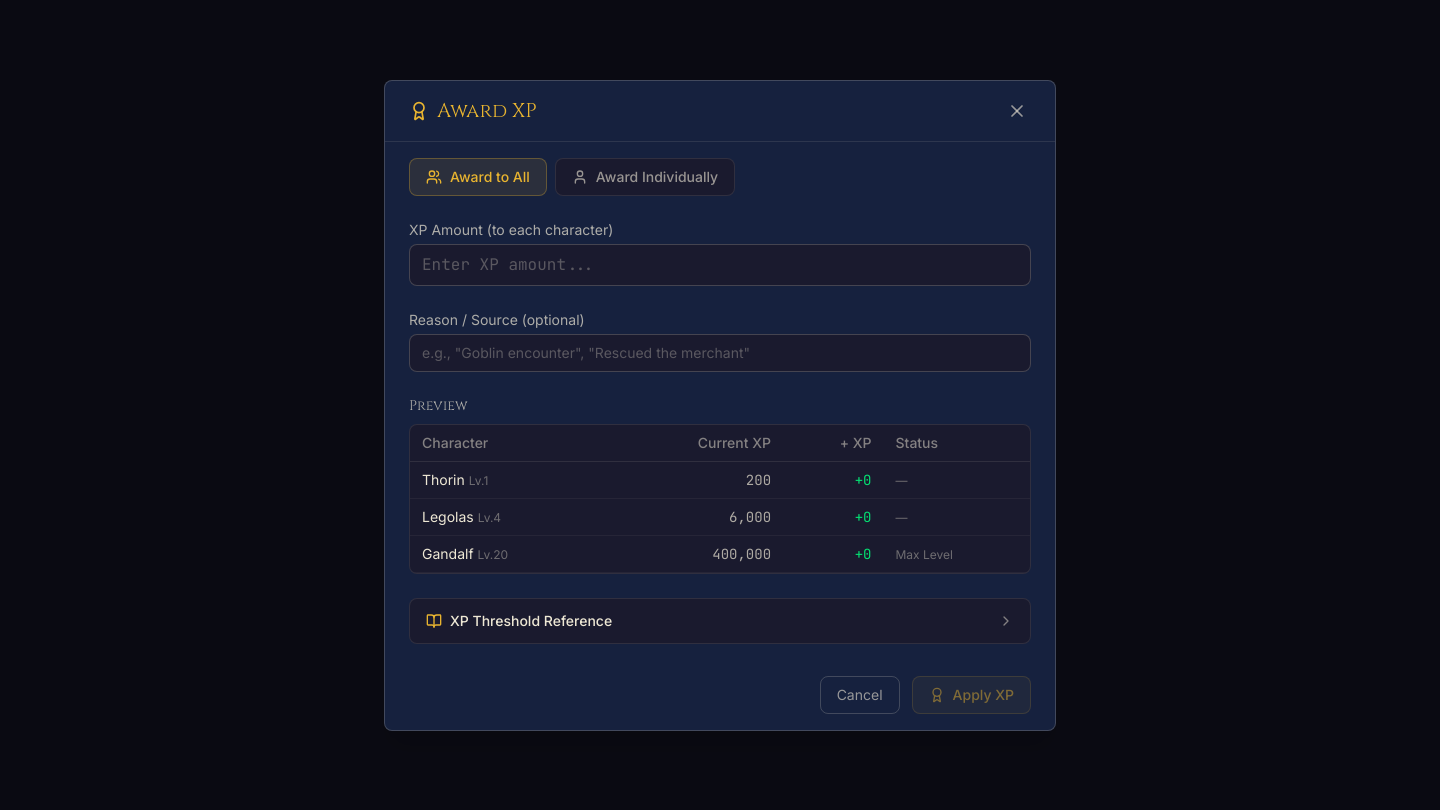
XPAward › should highlight multiple characters crossing level thresholds
Type "700" into the number field with test id "global-xp-input". click: (720, 264)
box: [409,244,1031,286]
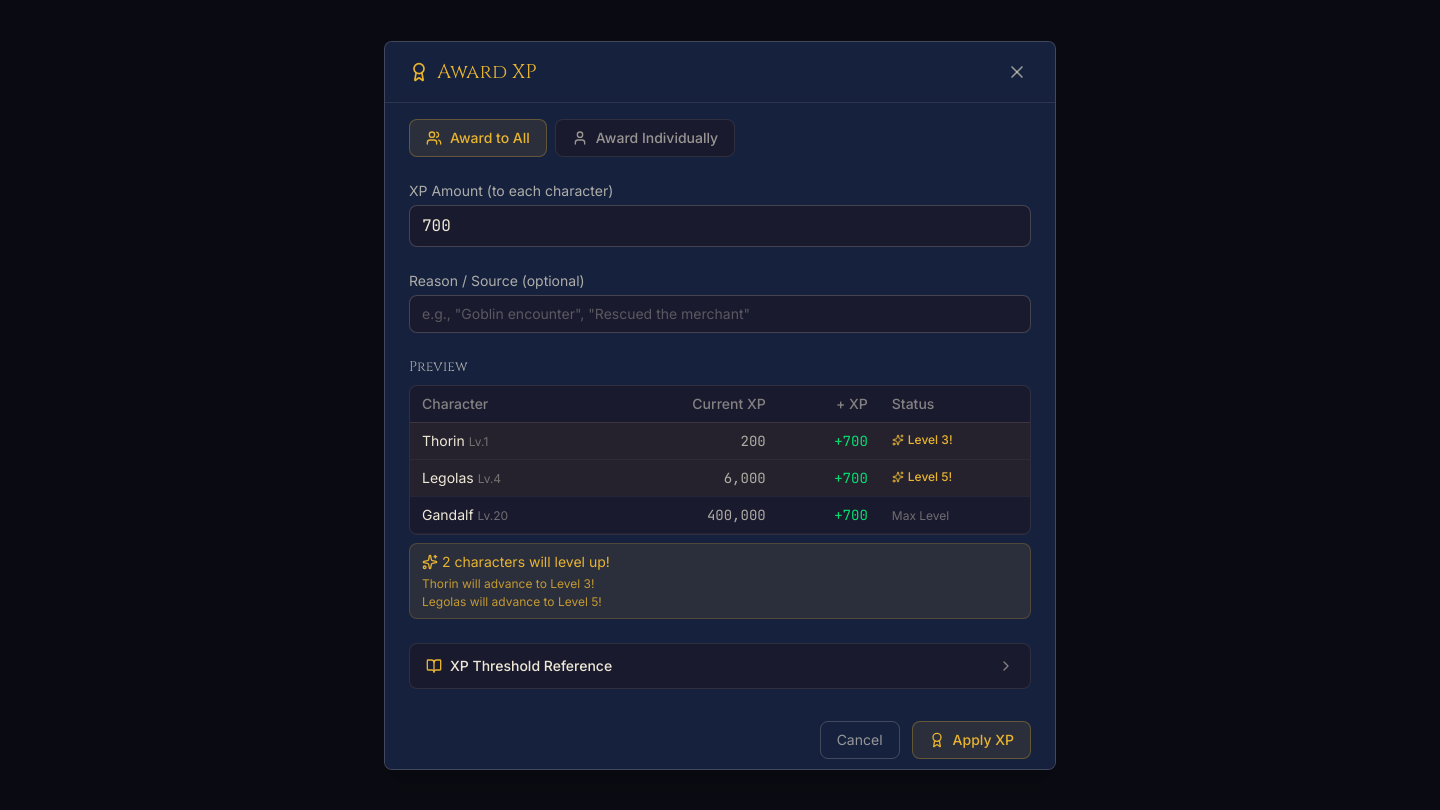
Expected: the element with test id "level-up-indicator-c1" is shown, [892,432,952,448]
Expected: the element with test id "level-up-indicator-c2" is shown, [892,468,952,484]
Expected: the element with test id "level-up-summary" is shown, [409,542,1031,618]
